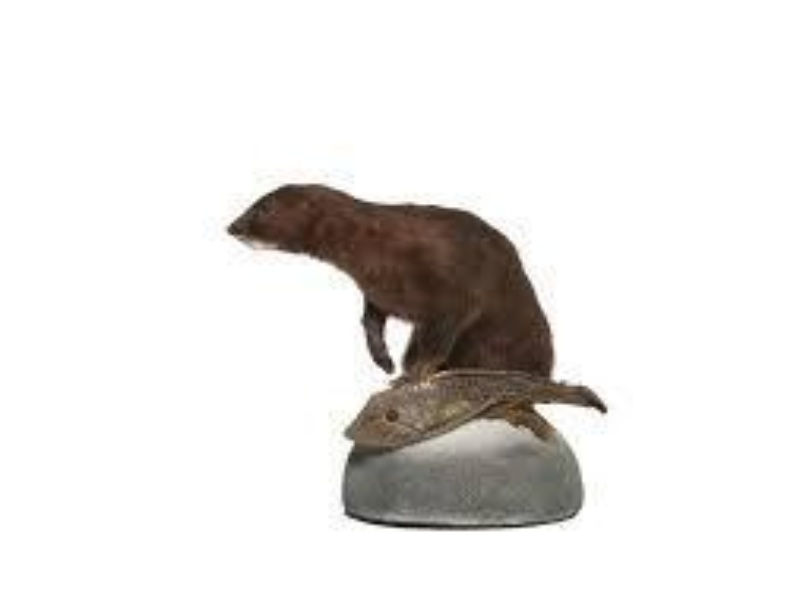minkish: (224, 182, 557, 442)
